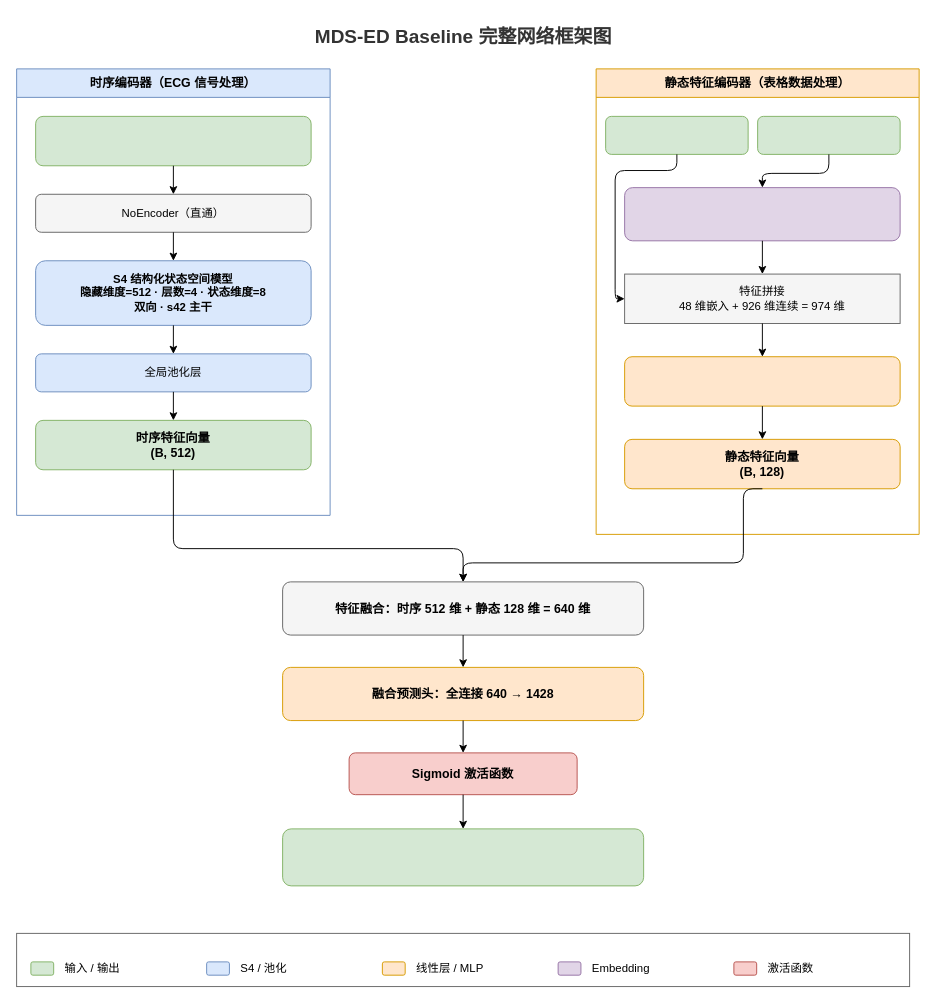
Some shapes in this 936 by 1003 pixel diagram are drawn without their labels. The centre of each missing label's shape, as x and y in pixels:
"ECG 波形输入 (B, 12, 250) @ 100Hz" goes at [173,140].
"嵌入层 3 个类别特征 → 各 16 维（词汇量 2/5/5）" goes at [762,214].
"输出：1428 维 ICD-10 诊断概率 (B, 1428)" goes at [463,857].
"静态特征 MLP 974 → 128 → 128 → 128" goes at [762,381].
"静态类别特征 (3 维)" goes at [828,134].
"静态连续特征 (926 维)" goes at [676,134].
